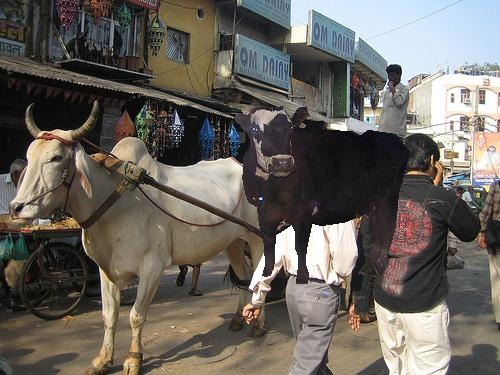tampered: (235, 107, 409, 284)
